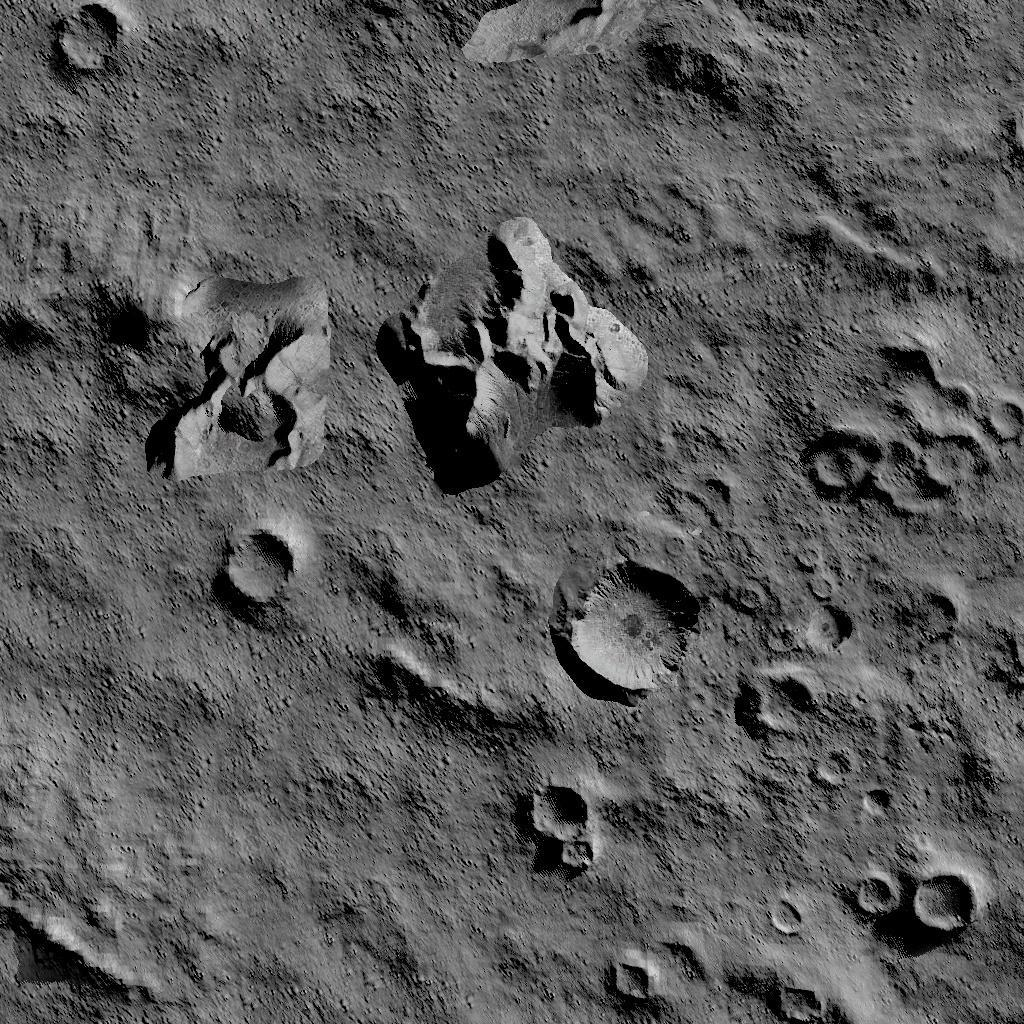Boulders: (0, 205, 328, 478), (378, 220, 648, 493), (361, 2, 815, 126), (788, 145, 1024, 303), (0, 885, 181, 1010), (366, 645, 546, 743)
Crater: (803, 350, 1024, 515), (561, 560, 703, 698), (846, 865, 978, 938), (526, 772, 600, 882), (214, 528, 306, 612), (736, 670, 820, 745), (51, 5, 131, 83), (598, 955, 658, 1005), (774, 975, 828, 1024)
Plan surface: (216, 752, 516, 1022), (0, 490, 203, 873), (146, 2, 348, 192), (831, 0, 1024, 133)
